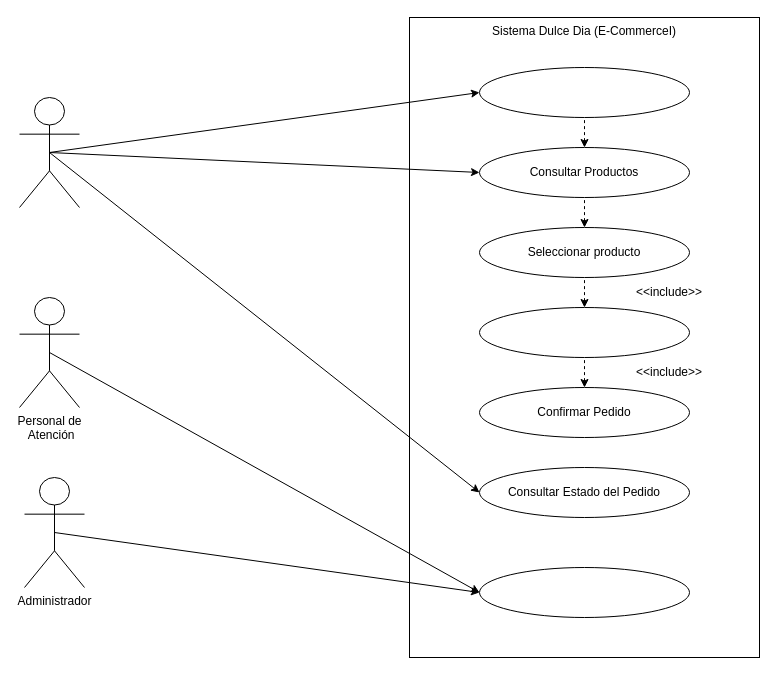
The diagram is 777 pixels wide and 675 high, and some of its shapes have lost their labels. Each missing label, with the centre of its shape:
Cliente: point 49,152
Consultar Catalogo: point 584,92
Gestionar Catalogo: point 584,592
Realizar pedido online: point 584,332
